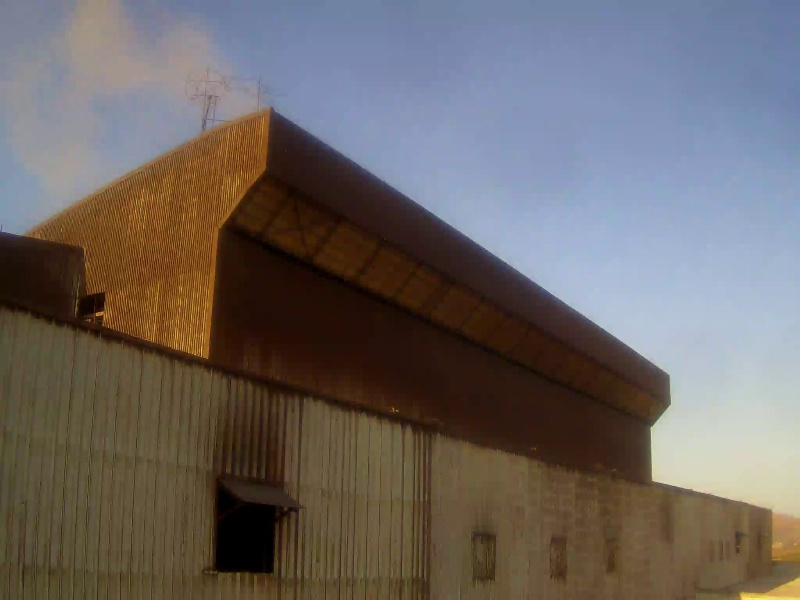bom: (281, 7, 677, 489)
ruim: (6, 3, 272, 173)
